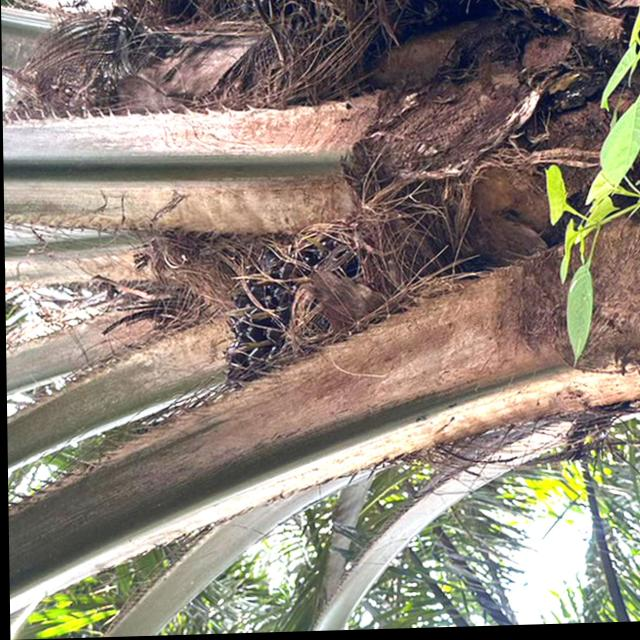ripe: (203, 227, 412, 399)
